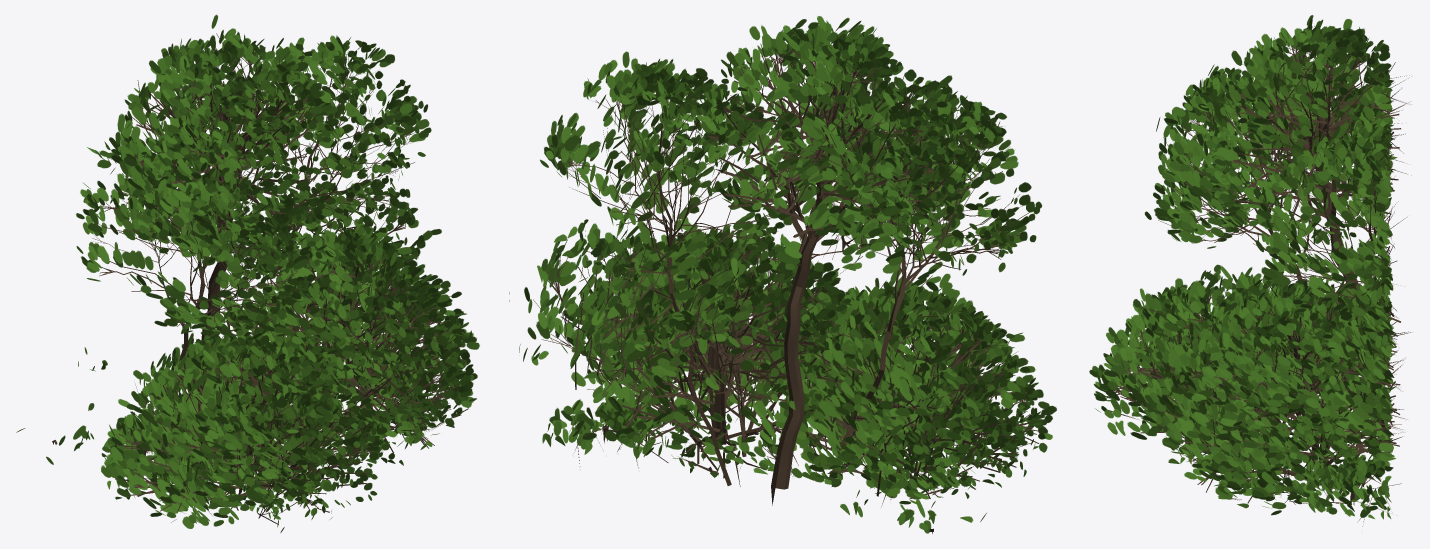
3 views of the same model, side by side, from view 1: azimuth 30°, elevation 25°; view 2: azimuth 150°, elevation 25°; view 3: azimuth 270°, elevation 25° (orthographic). The views are drawn at different scales.
Parts seen in each view (by area): view 1: oak 01.001_trunk_Mat.001_0.176; view 2: oak 01.001_trunk_Mat.001_0.176; view 3: oak 01.001_trunk_Mat.001_0.176.
Boxes of the visible parts, x1,y1,x2,y2 form: oak 01.001_trunk_Mat.001_0.176: (16,14,479,533); oak 01.001_trunk_Mat.001_0.176: (509,16,1056,533); oak 01.001_trunk_Mat.001_0.176: (1089,15,1411,526).
Bounding box in the file's own units: 4.67 × 4.53 × 3.2.
Materials: 2 (1 with a texture image).
